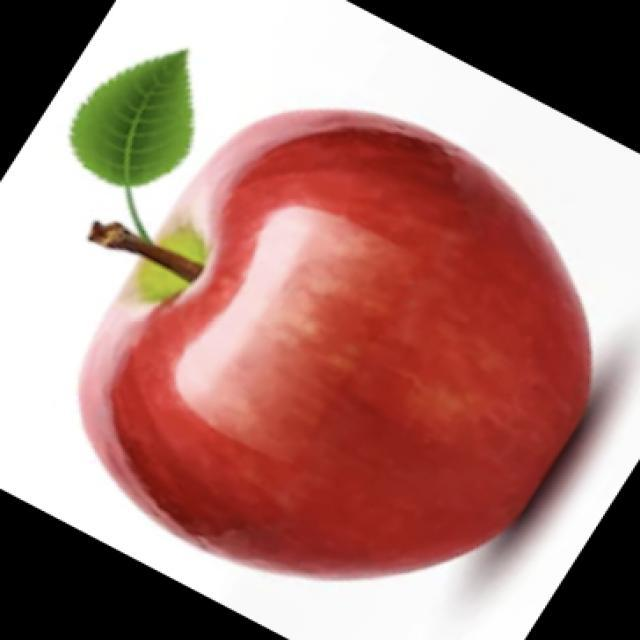Fresh Apple: (85, 122, 638, 568)
